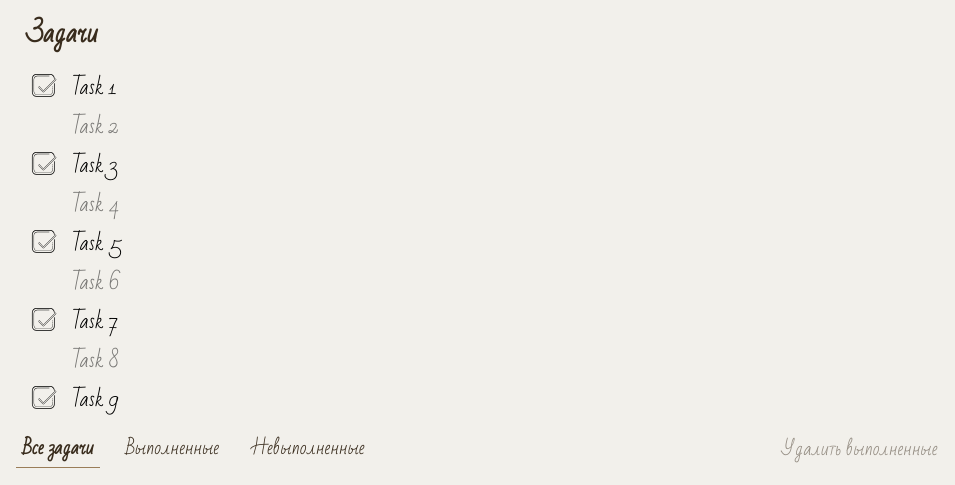
it: TodoList Component › Фильтр невыполненные
Click the button "Невыполненные".
click(308, 448)  # box [245,429,371,467]
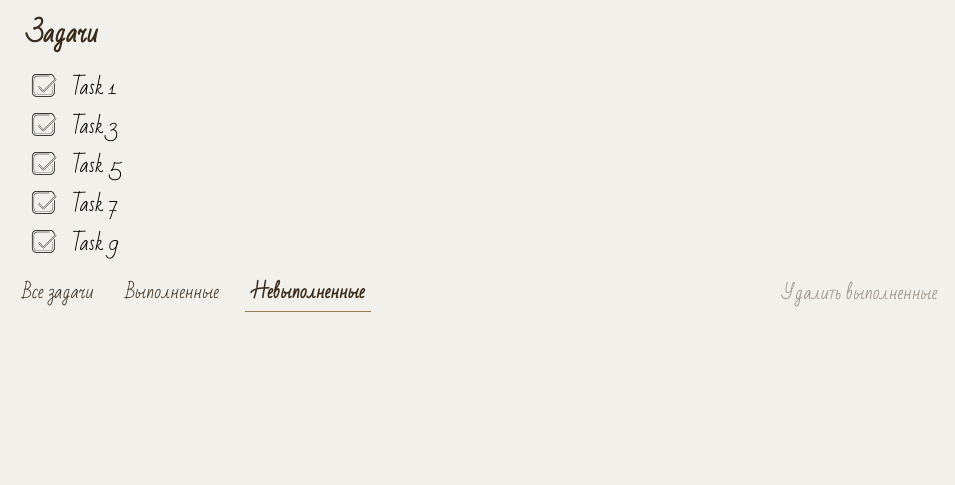
Expected: the text "Task 2" is gone
Expected: the text "Task 4" is gone
Expected: the text "Task 6" is gone
